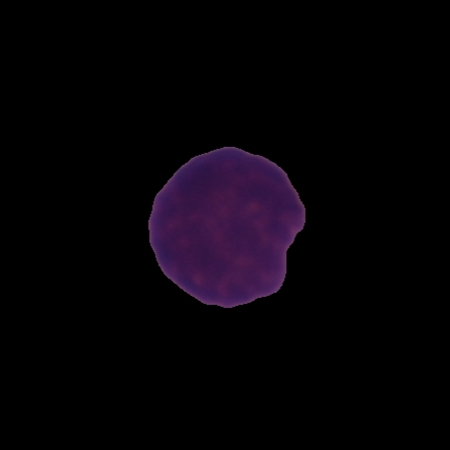HEM: (145, 143, 308, 313)
